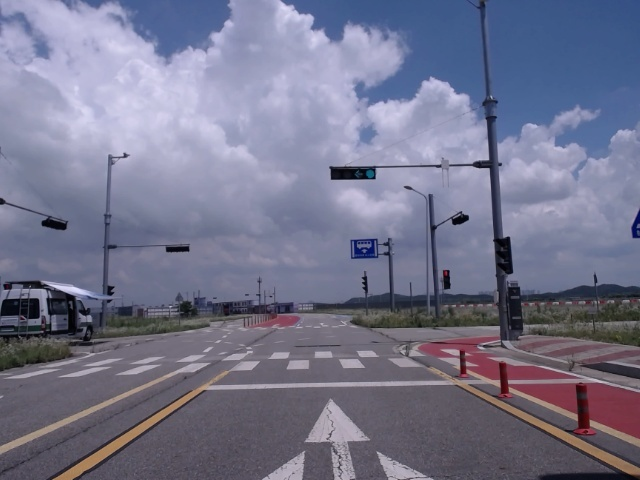all_green_4: (331, 164, 374, 178)
